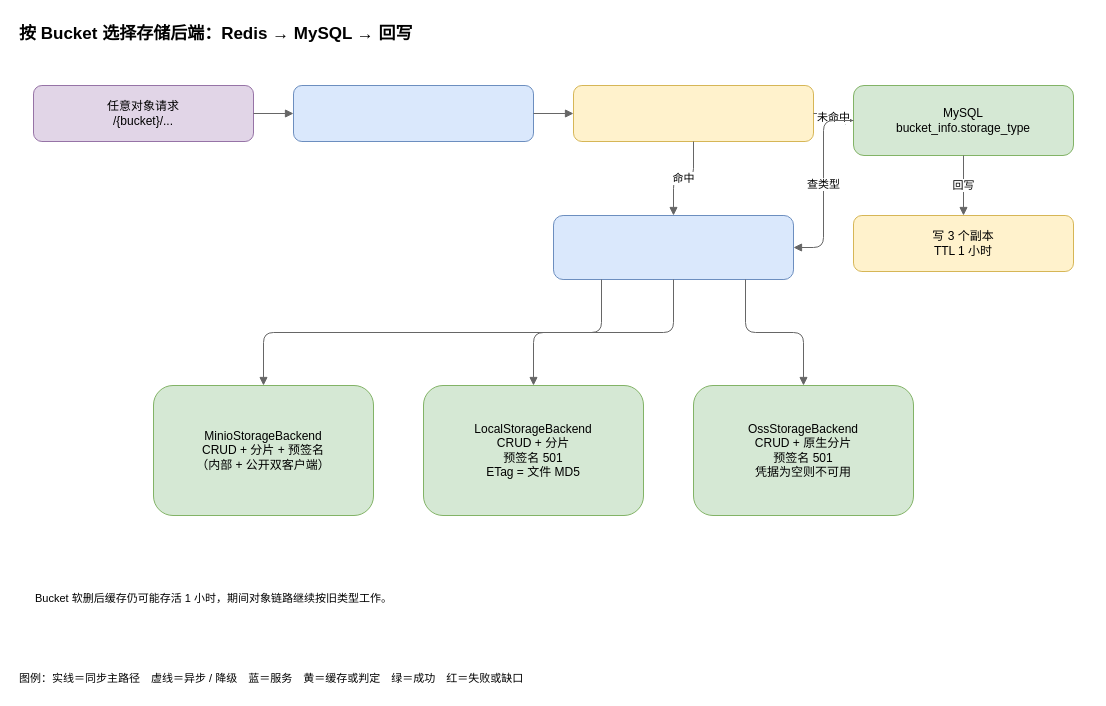
Some shapes in this 1106 by 706 pixel diagram are drawn without their labels. Each missing label, with the centre of its shape:
"StorageBackendFactory getBackend(bucket)" goes at pixel 413 113.
"StorageType MINIO / LOCAL / OSS" goes at pixel 673 247.
"随机读副本 bucket:storage:{b}" goes at pixel 693 113.
